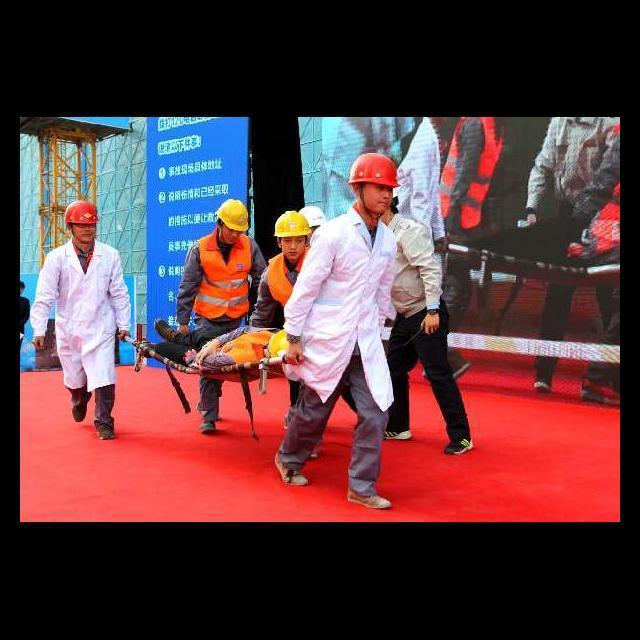Capacete: (348, 153, 398, 187), (216, 199, 249, 231), (274, 210, 310, 237), (65, 200, 97, 223), (299, 205, 326, 227), (267, 329, 288, 356)
Colete: (194, 229, 252, 319), (460, 117, 503, 228), (223, 330, 273, 363), (267, 253, 292, 306)
